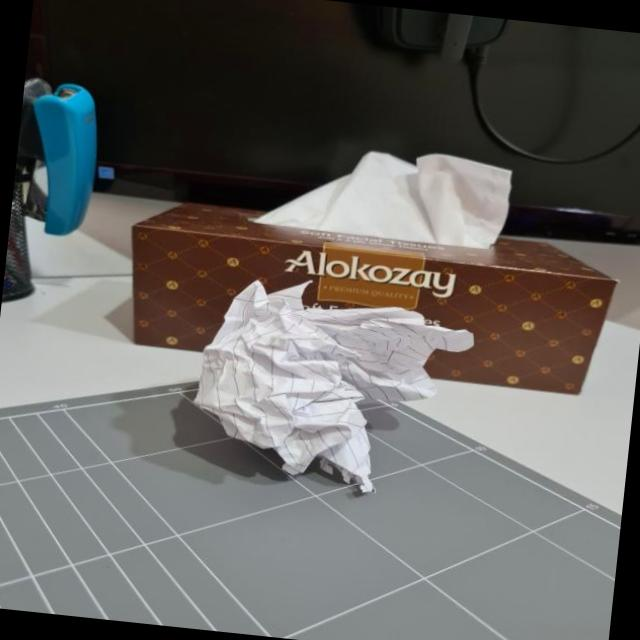cardboard paper: (193, 278, 471, 488), (253, 149, 509, 245)
